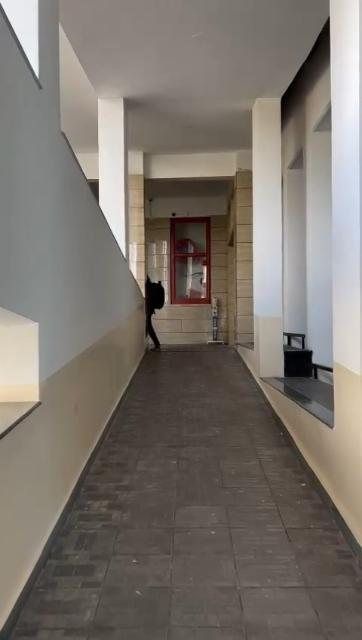floor: (11, 358, 362, 640)
moving-obj: (140, 248, 176, 360)
wall: (0, 0, 138, 625), (330, 1, 362, 503), (98, 95, 140, 363), (251, 100, 285, 380), (168, 306, 204, 344), (145, 220, 167, 274), (213, 218, 227, 298)
